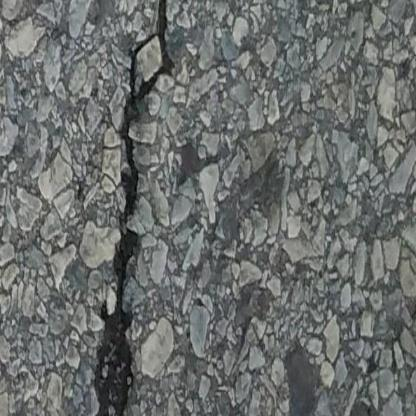Cracks: (92, 0, 184, 416)
